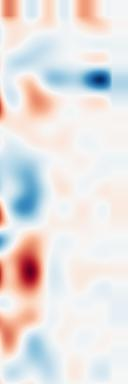filament: (7, 228, 52, 303)
